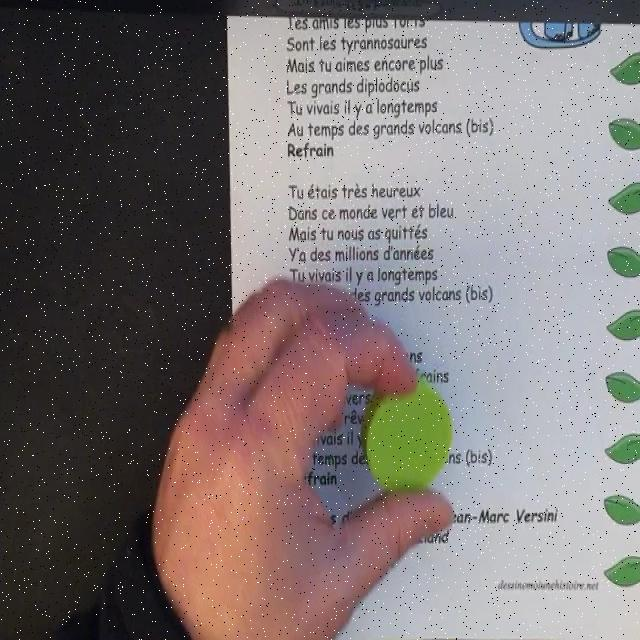round: (363, 382, 453, 498)
